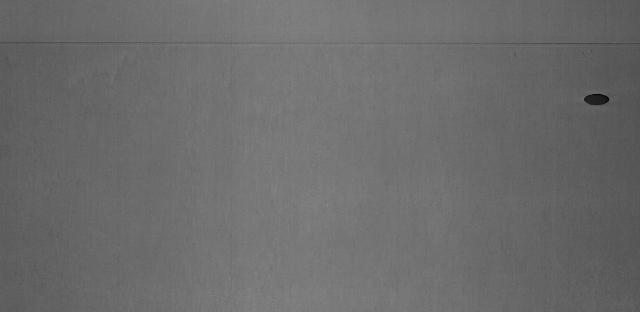punching_hole: (577, 88, 615, 110)
welding_line: (1, 33, 640, 55)
